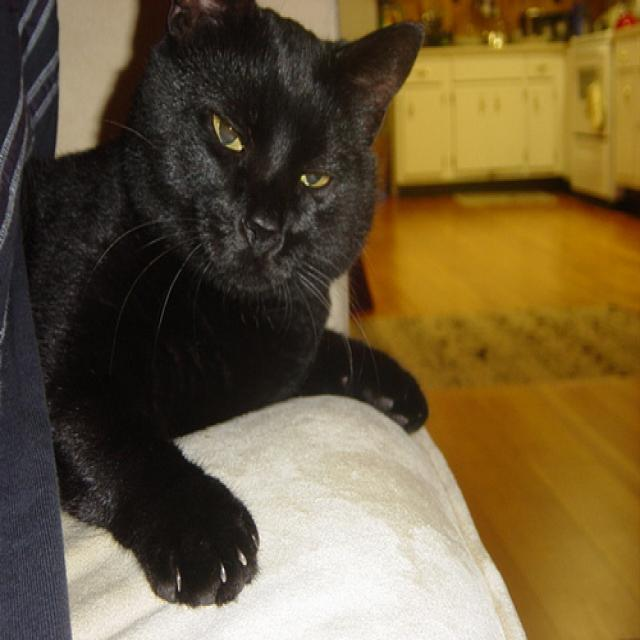Bombay: (99, 0, 441, 316)
